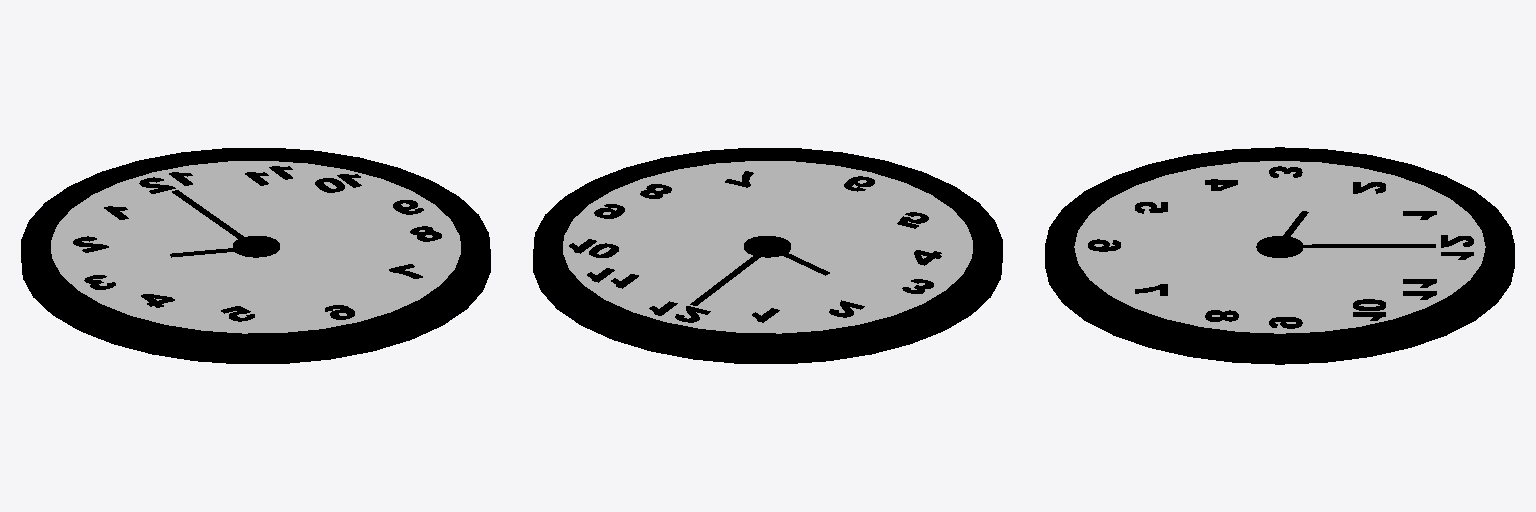
Rendered from clock.obj.
3 renders of one model, left to right at view 1: azimuth 30°, elevation 25°; view 2: azimuth 150°, elevation 25°; view 3: azimuth 270°, elevation 25°, orthographic.
Parts seen in each view (by area): view 1: Clock; view 2: Clock; view 3: Clock.
Part boxes in pixels (x1,y1,x2,y2): Clock: (21, 148, 490, 363); Clock: (533, 148, 1002, 363); Clock: (1045, 147, 1514, 364).
Size of the model in its own units: 41.84 by 2 by 41.84.